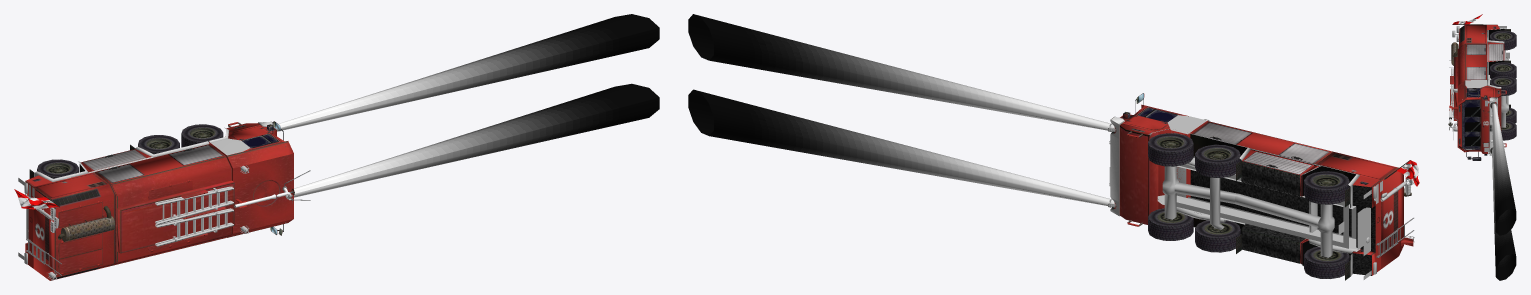
The model's file is faun3500.obj.
3 views of the same model, side by side, from view 1: azimuth 30°, elevation 25°; view 2: azimuth 150°, elevation 25°; view 3: azimuth 270°, elevation 25° (orthographic). The views are drawn at different scales.
Parts seen in each view (by area): view 1: licht, tank, tankadd2, kabd, tankadd1, kaba, 4leiter, radf, auspuff, kots, details, flagge (+1 smaller); view 2: licht, tank, rahmen2, kaba, radp, radf, kots, rahmen, bumber, details, keile, tankadd1; view 3: licht, tank, kaba, radf, radp, alpha2, glassf, details, tankadd2, kots, bumber, rahmen2 (+6 smaller).
Part boxes in pixels (x1,y1,x2,y2): licht: (276,14,659,197); tank: (25,144,231,280); tankadd2: (117,180,246,253); kabd: (233,153,293,233); tankadd1: (26,201,102,278); kaba: (209,121,293,237); 4leiter: (155,186,233,246); radf: (37,124,223,176); auspuff: (58,206,114,241); kots: (29,127,228,181); details: (18,138,250,279); flagge: (14,189,58,209); licht: (688,14,1111,205); tank: (1190,121,1410,275); rahmen2: (1157,156,1360,257); kaba: (1114,93,1208,226); radp: (1148,137,1349,278); radf: (1148,133,1349,264); kots: (1148,128,1359,280); rahmen: (1176,157,1356,248); bumber: (1108,116,1124,216); details: (1109,115,1414,279); keile: (1357,207,1370,255); tankadd1: (1376,217,1414,257); licht: (1492,104,1516,280); tank: (1452,24,1504,85); kaba: (1457,81,1506,160); radf: (1490,30,1516,131); radp: (1490,33,1516,140); alpha2: (1465,107,1480,146); glassf: (1462,99,1479,149); details: (1452,26,1509,151); tankadd2: (1449,57,1457,120); kots: (1487,28,1510,107); bumber: (1488,97,1497,155); rahmen2: (1488,50,1508,127).
Bounding box in the file's own units: 2315 × 378 × 322.
